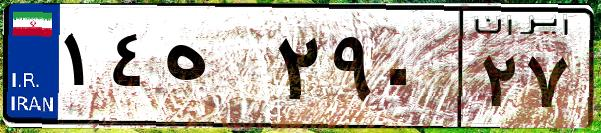0: (385, 28, 445, 110)
1: (57, 26, 110, 100)
2: (270, 28, 330, 110), (475, 38, 525, 113)
4: (110, 28, 158, 98)
7: (525, 38, 570, 115)
9: (330, 28, 385, 110)
ه: (158, 20, 270, 120)
